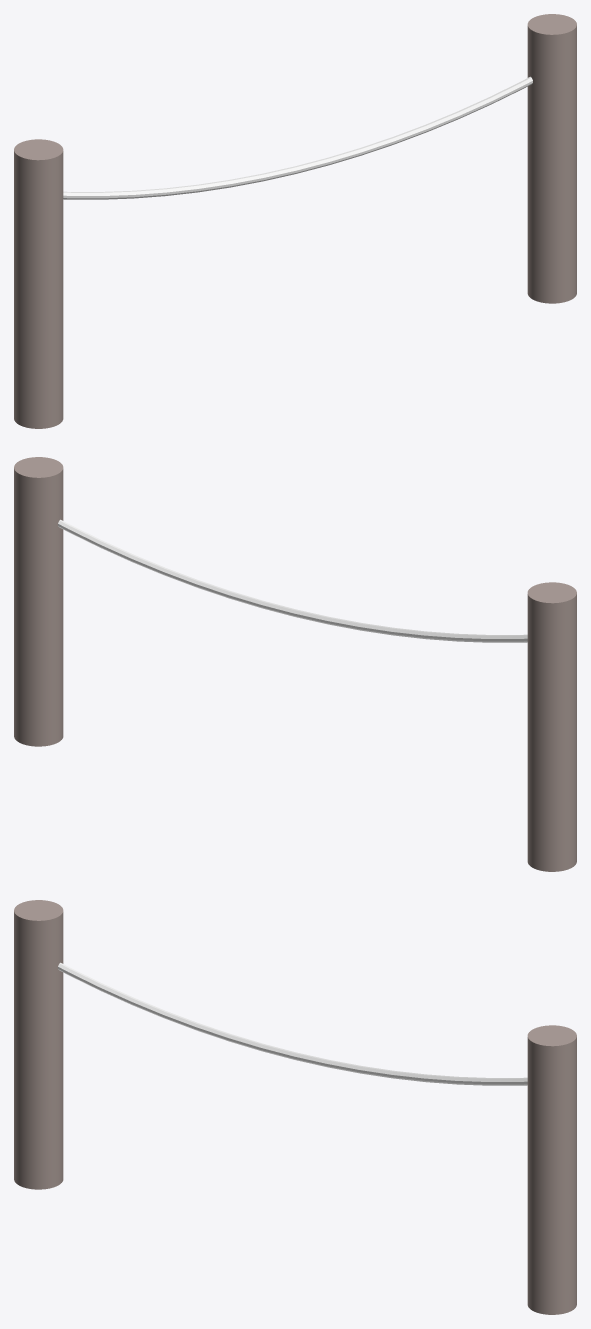
The model's file is 柵複製用.fbx.
The picture shows the model from 3 angles, top to bottom: view 1: azimuth 30°, elevation 25°; view 2: azimuth 150°, elevation 25°; view 3: azimuth 330°, elevation 25°; orthographic projection.
Visible parts, largest first — view 1: Body; view 2: Body; view 3: Body.
Part boxes in pixels (<box>): Body: <box>14,14,576,428</box>; Body: <box>14,457,576,871</box>; Body: <box>14,900,576,1314</box>.
Size of the model in its own units: 130 by 60 by 10.
